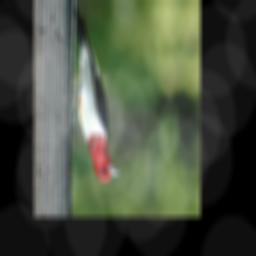Woodpecker: (65, 0, 121, 182)
